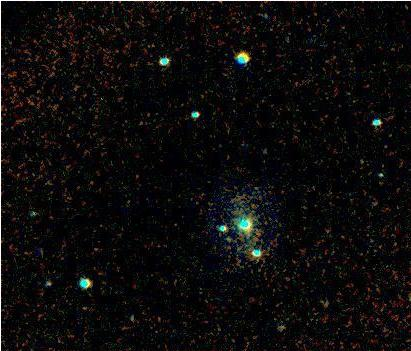star: (69, 293, 99, 323)
